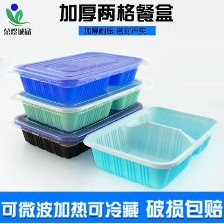plastic_box: (1, 46, 154, 162), (77, 100, 223, 191)
